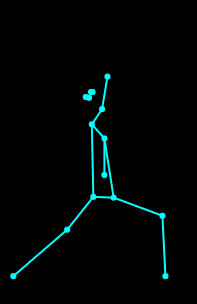warrior_1: (8, 50, 175, 285)
